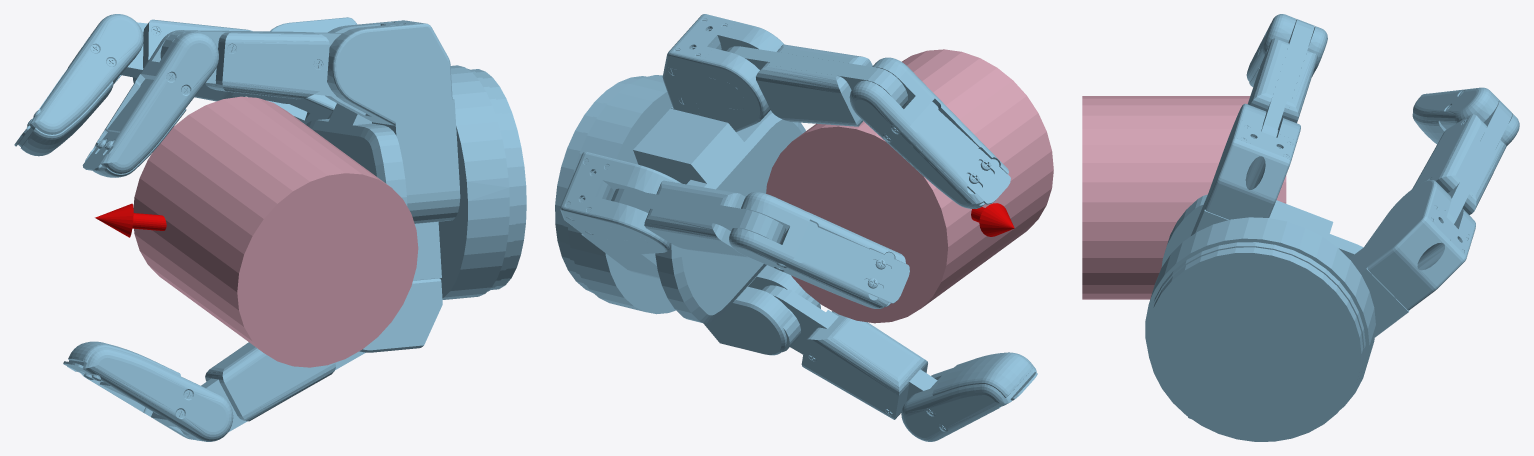
The picture shows the model from 3 angles, left to right: view 1: azimuth 30°, elevation 25°; view 2: azimuth 150°, elevation 25°; view 3: azimuth 270°, elevation 25°; orthographic projection. The views are drawn at different scales.
Parts seen in each view (by area): view 1: world, cylinder_medium.stl; view 2: world, cylinder_medium.stl; view 3: world, cylinder_medium.stl.
Boxes of the visible parts, box(x1,y1,x2,y2) form: world: box(14, 14, 526, 441); cylinder_medium.stl: box(133, 96, 418, 367); world: box(555, 14, 1037, 441); cylinder_medium.stl: box(766, 49, 1053, 323); world: box(1145, 14, 1519, 441); cylinder_medium.stl: box(1082, 96, 1286, 299).
Size of the model in its own units: 0.1877 by 0.1636 by 0.1715.
